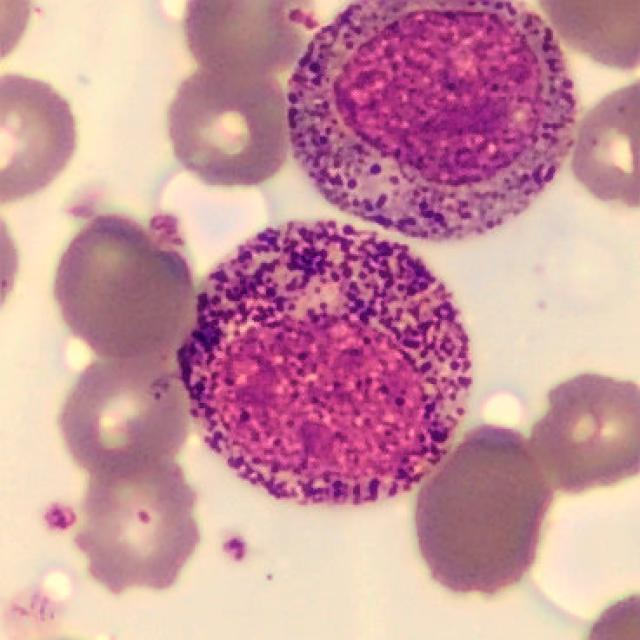Promielocito: (172, 216, 478, 509), (287, 0, 577, 244)
